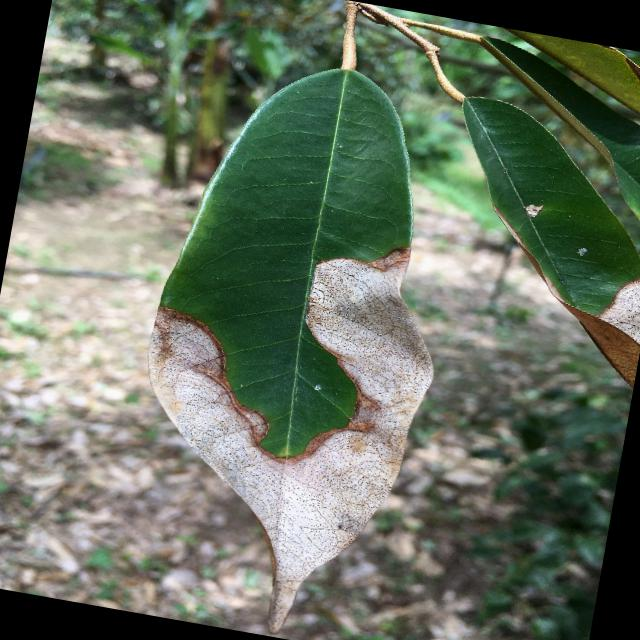Leaf Blight: (93, 35, 492, 639)
